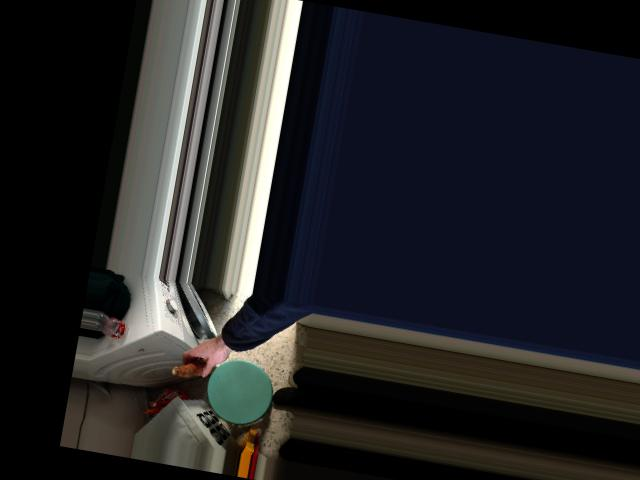sweet_potato: (172, 346, 228, 383)
